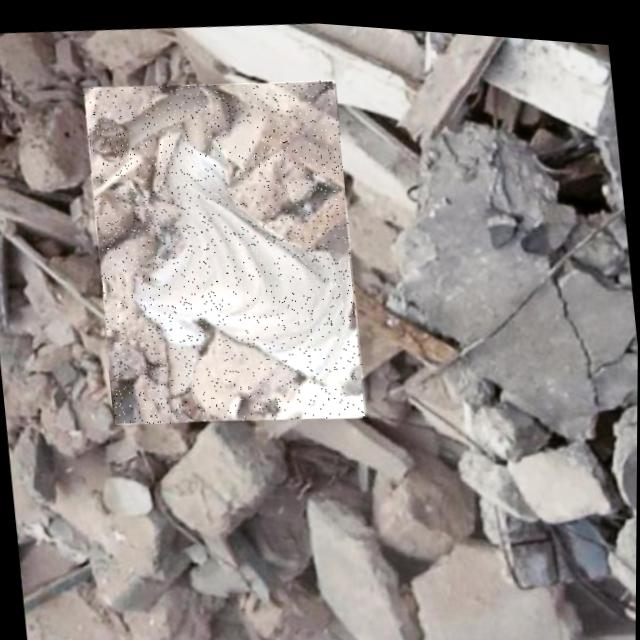Person in Rubble: (80, 59, 369, 437)
